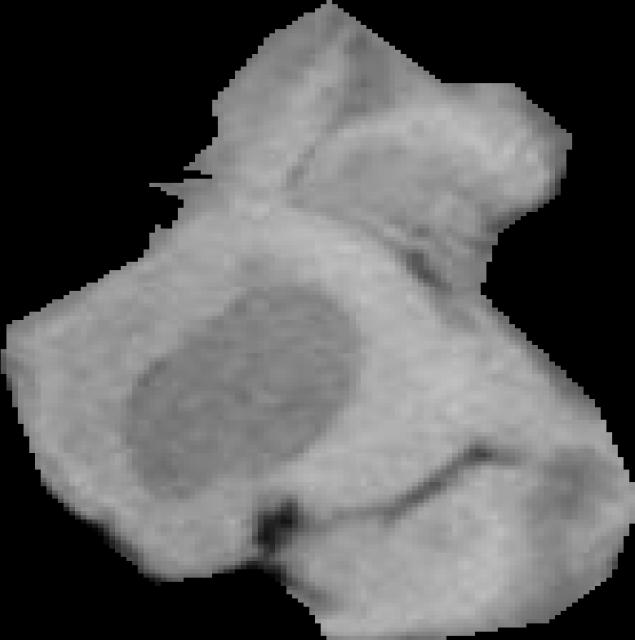tumor_less_chance: (1, 0, 635, 640)
